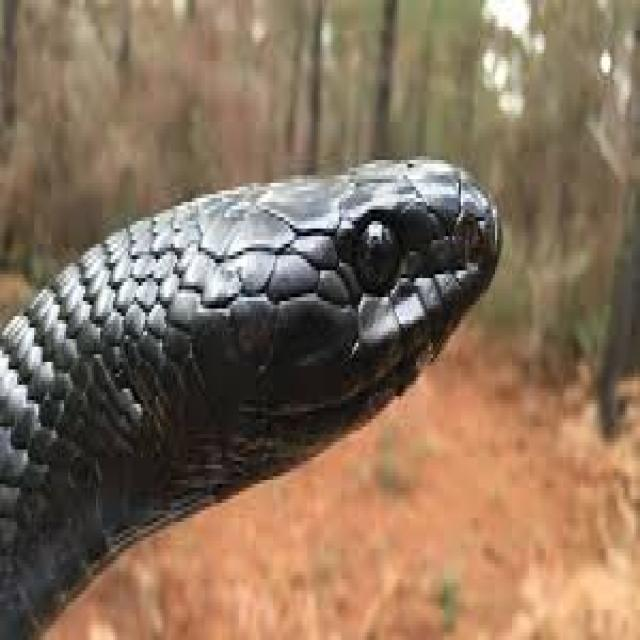Snake: (0, 140, 511, 640)
